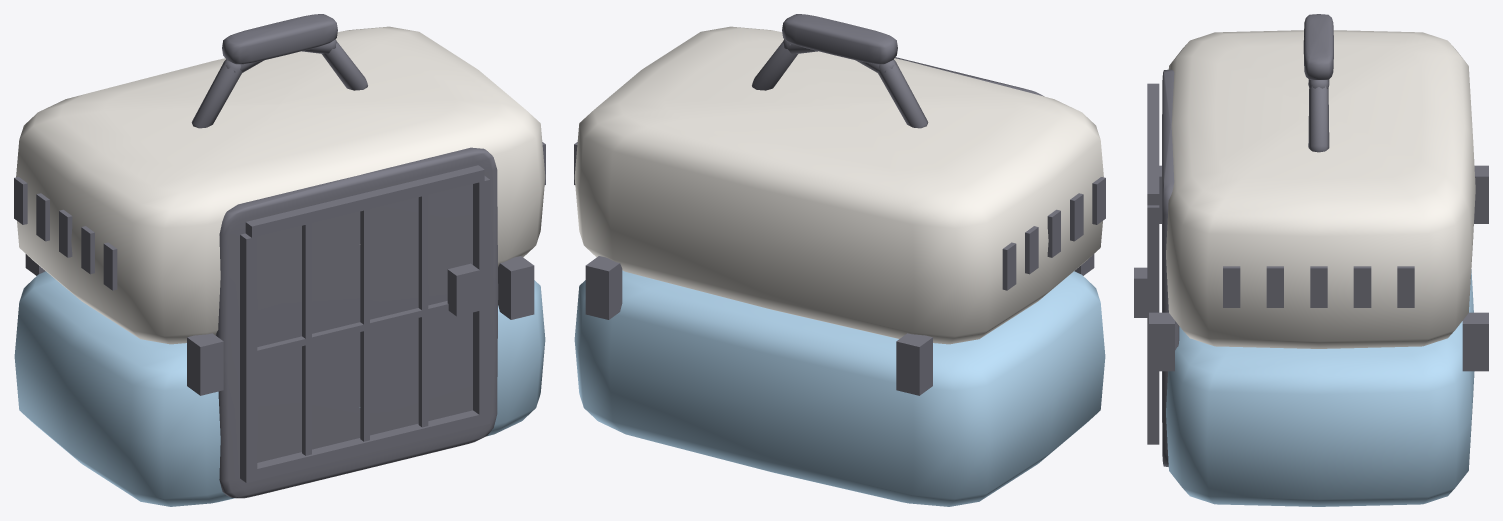
The model's file is companion-animals-and-pet-home-carrier-2193c549__20649.glb.
3 views of the same model, side by side, from view 1: azimuth 30°, elevation 25°; view 2: azimuth 150°, elevation 25°; view 3: azimuth 270°, elevation 25° (orthographic). The views are drawn at different scales.
Visible parts, largest first — view 1: carrier, hinged-carrier-door; view 2: carrier; view 3: carrier, hinged-carrier-door.
Boxes of the visible parts, bbox=[...] form: carrier: bbox=[14, 14, 545, 506]; hinged-carrier-door: bbox=[240, 165, 490, 482]; carrier: bbox=[574, 14, 1105, 506]; carrier: bbox=[1149, 14, 1488, 506]; hinged-carrier-door: bbox=[1134, 83, 1159, 444].
Bounding box in the file's own units: 0.558 × 0.495 × 0.407.
